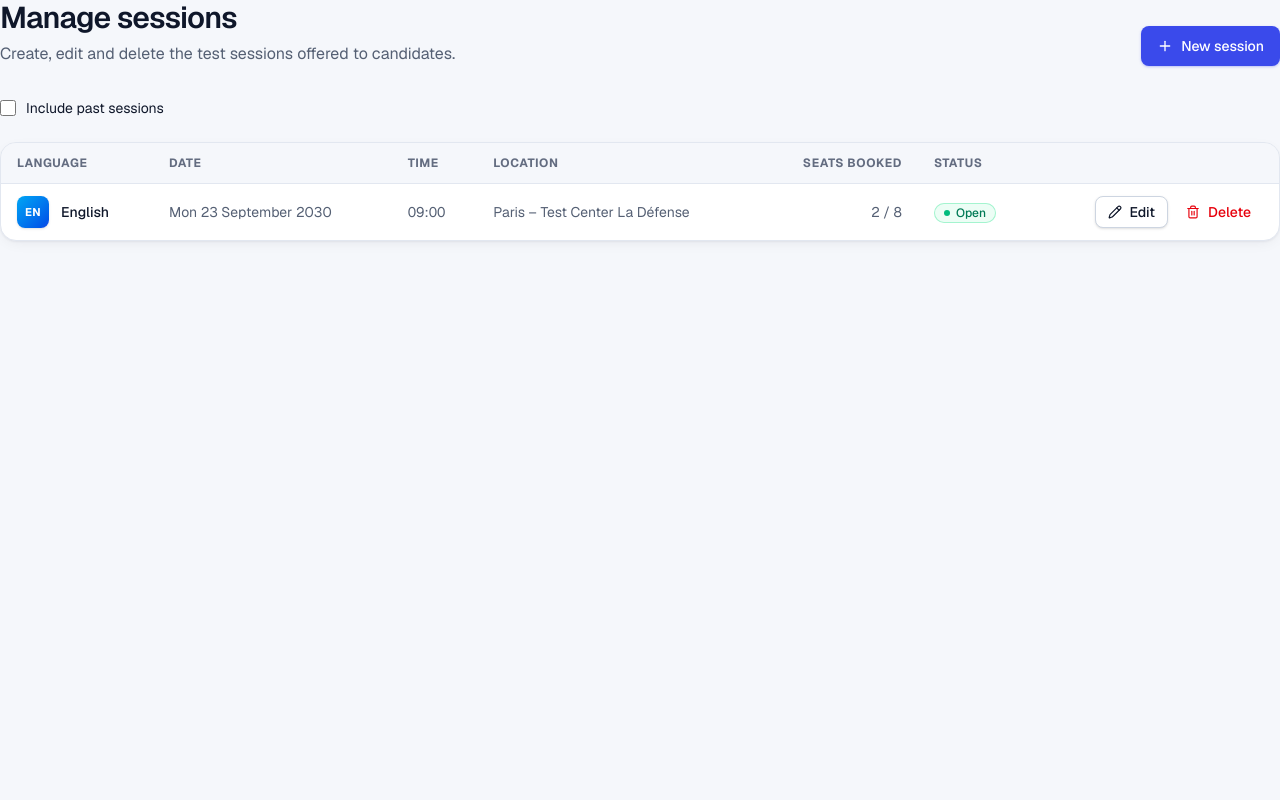
Scenario: AdminSessionsScreen › explains why a booked session cannot be deleted
Click the button named "Delete English" at (1218, 212), box [1174,196,1263,228]
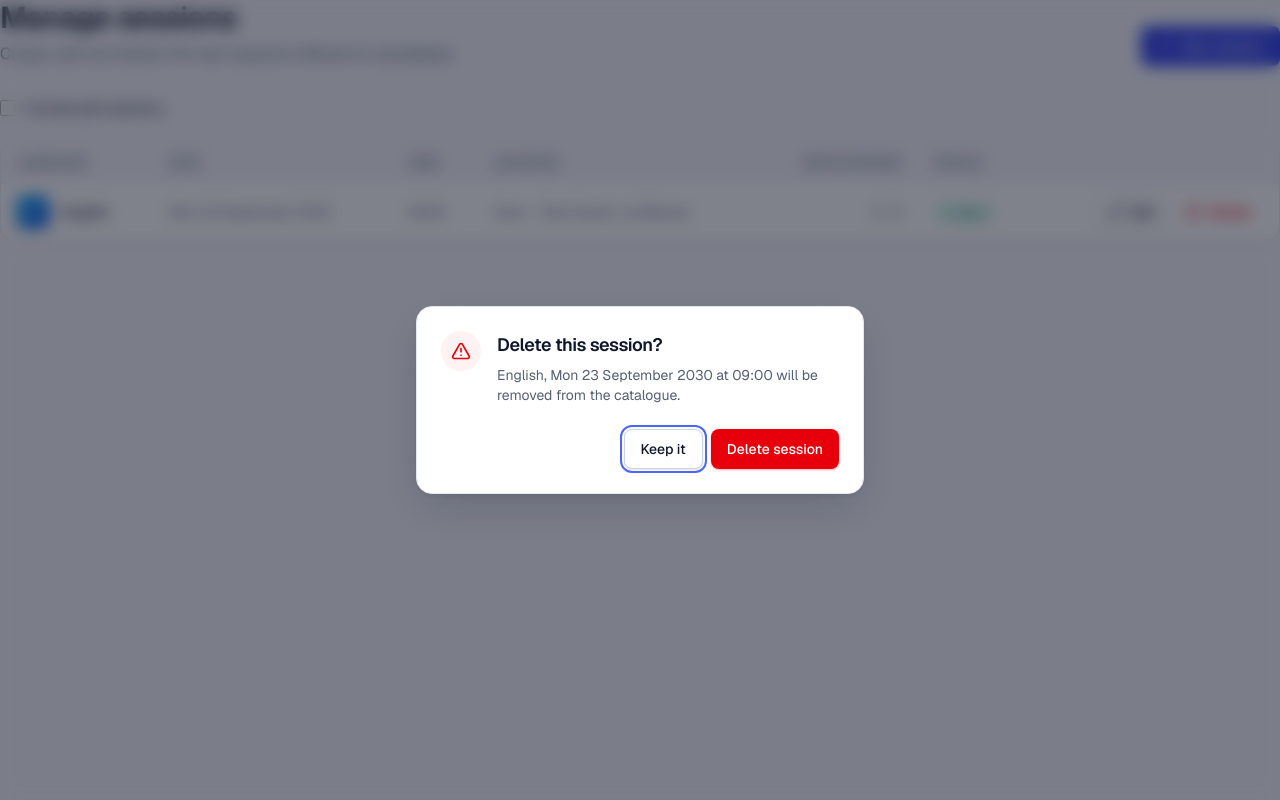
Click the button "Delete session" at (775, 449), box [711,429,839,469]
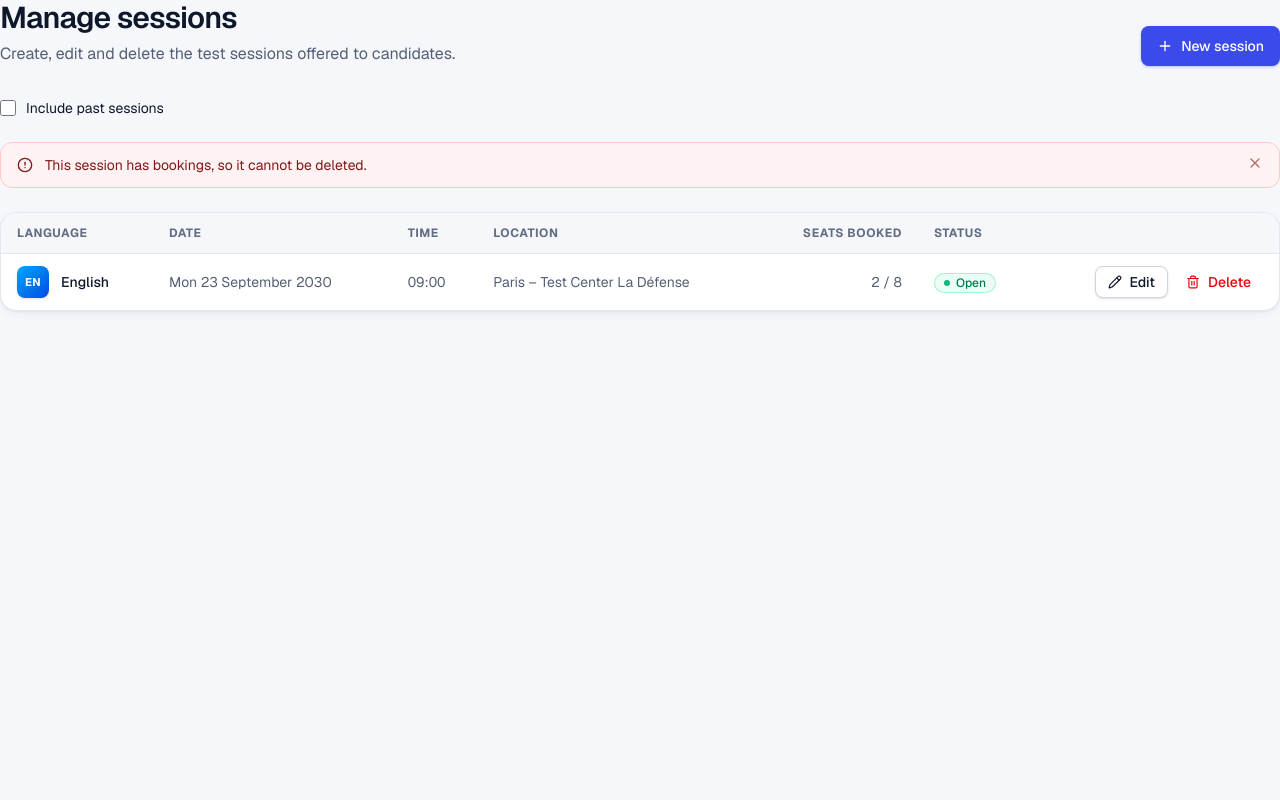
Expected: the message reads "This session has bookings, so it cannot be deleted.", [45,156,366,174]
